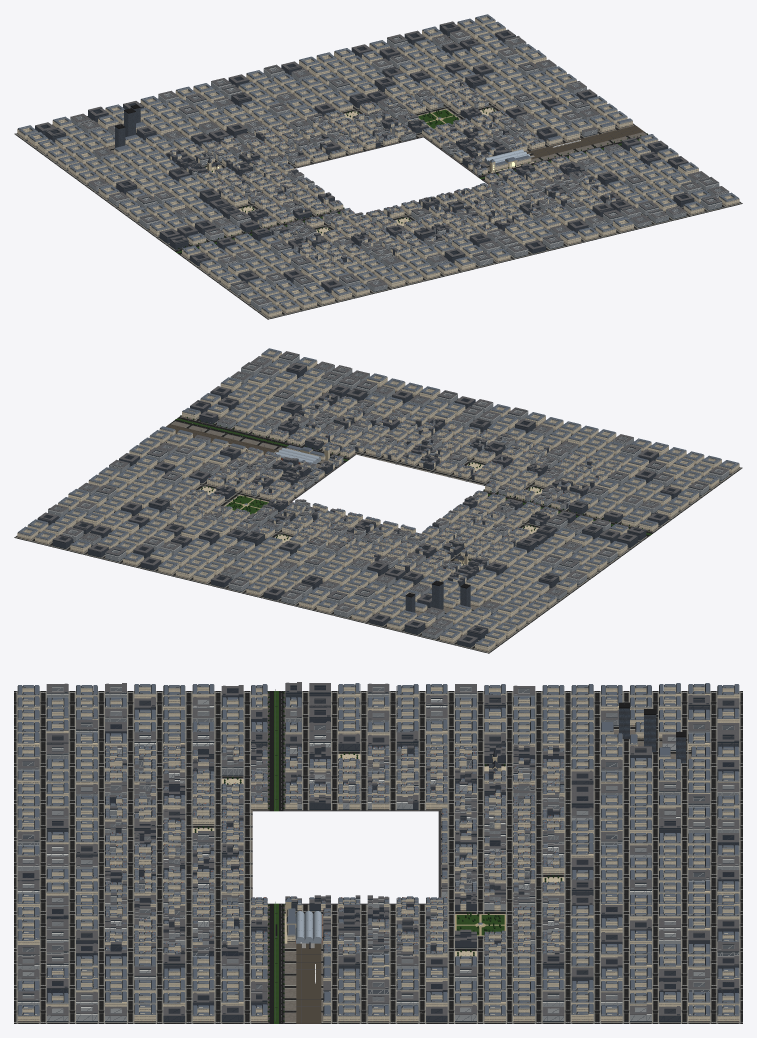
The model's file is city.glb.
The picture shows the model from 3 angles, top to bottom: view 1: azimuth 30°, elevation 25°; view 2: azimuth 150°, elevation 25°; view 3: azimuth 270°, elevation 25°; orthographic projection. The views are drawn at different scales.
Parts seen in each view (by area): view 1: emissive_haussmann_city, zinc_city, zinc_flat_city, roofing_city, emissive_modern_light_city, emissive_modern_dark_city, emissive_city_ground_city, gravel_city, chimney_city, stone_city, emissive_curtain_city, paving_city; view 2: emissive_haussmann_city, zinc_city, zinc_flat_city, roofing_city, emissive_modern_light_city, emissive_modern_dark_city, emissive_city_ground_city, chimney_city, lawn_city, emissive_curtain_city, asphalt_city, paving_city (+2 smaller); view 3: emissive_city_ground_city, zinc_city, emissive_haussmann_city, zinc_flat_city, roofing_city, emissive_modern_light_city, emissive_modern_dark_city, asphalt_city, gravel_city, lawn_city, chimney_city, paving_city (+4 smaller).
Part boxes in pixels (bbox=[...]): emissive_haussmann_city: bbox=[17, 17, 739, 318]; zinc_city: bbox=[18, 15, 739, 313]; zinc_flat_city: bbox=[18, 14, 738, 312]; roofing_city: bbox=[35, 21, 728, 304]; emissive_modern_light_city: bbox=[70, 31, 729, 310]; emissive_modern_dark_city: bbox=[35, 23, 694, 293]; emissive_city_ground_city: bbox=[14, 25, 742, 319]; gravel_city: bbox=[526, 125, 644, 159]; chimney_city: bbox=[171, 81, 612, 267]; stone_city: bbox=[206, 108, 533, 235]; emissive_curtain_city: bbox=[115, 107, 140, 147]; paving_city: bbox=[174, 136, 639, 254]; emissive_haussmann_city: bbox=[17, 351, 739, 652]; zinc_city: bbox=[17, 349, 739, 646]; zinc_flat_city: bbox=[18, 348, 738, 645]; roofing_city: bbox=[38, 351, 728, 643]; emissive_modern_light_city: bbox=[48, 353, 729, 639]; emissive_modern_dark_city: bbox=[37, 365, 681, 647]; emissive_city_ground_city: bbox=[14, 359, 742, 653]; chimney_city: bbox=[171, 394, 619, 577]; lawn_city: bbox=[176, 418, 651, 535]; emissive_curtain_city: bbox=[405, 583, 470, 612]; asphalt_city: bbox=[174, 417, 653, 536]; paving_city: bbox=[174, 417, 653, 536]; emissive_city_ground_city: bbox=[14, 691, 742, 1023]; zinc_city: bbox=[17, 683, 739, 1015]; emissive_haussmann_city: bbox=[17, 687, 739, 1022]; zinc_flat_city: bbox=[18, 683, 738, 1013]; roofing_city: bbox=[17, 682, 739, 1015]; emissive_modern_light_city: bbox=[17, 686, 739, 1022]; emissive_modern_dark_city: bbox=[17, 685, 739, 1022]; asphalt_city: bbox=[269, 691, 283, 1023]; gravel_city: bbox=[296, 943, 321, 1023]; lawn_city: bbox=[274, 691, 504, 1023]; chimney_city: bbox=[106, 745, 562, 952]; paving_city: bbox=[252, 691, 440, 1023].
Size of the model in its own units: 2160 by 127 by 2000.
30 materials, 13 textured.
